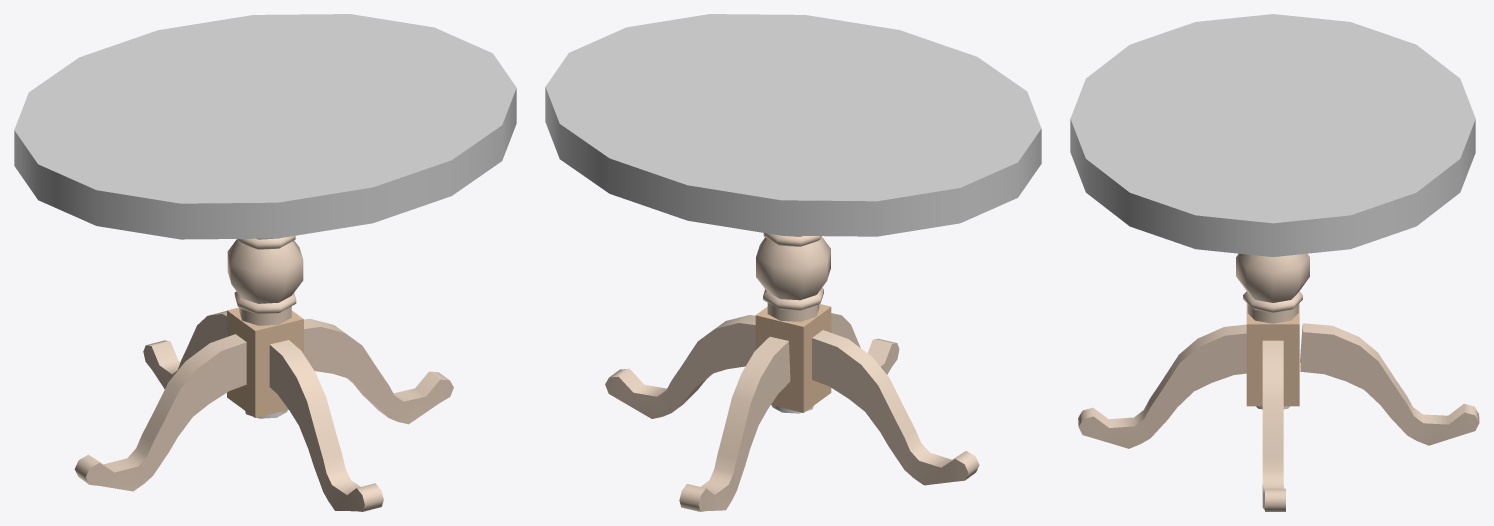
Rendered from Table(1)_A.fbx.
3 views of the same model, side by side, from view 1: azimuth 30°, elevation 25°; view 2: azimuth 150°, elevation 25°; view 3: azimuth 270°, elevation 25° (orthographic). The views are drawn at different scales.
Visible parts, largest first — view 1: polySurface8, polySurface4.001, polySurface4.002, polySurface4, polySurface2, polySurface1, polySurface4.003; view 2: polySurface8, polySurface4.001, polySurface4.003, polySurface4, polySurface2, polySurface1, polySurface4.002; view 3: polySurface8, polySurface4.003, polySurface4.002, polySurface2, polySurface4, polySurface1.
Boxes of the visible parts, left/top/right/bottom form: polySurface8: left=14, top=14, right=516, bottom=239; polySurface4.001: left=74, top=334, right=246, bottom=491; polySurface4.002: left=269, top=340, right=383, bottom=511; polySurface4: left=304, top=318, right=453, bottom=424; polySurface2: left=227, top=235, right=303, bottom=325; polySurface1: left=227, top=307, right=303, bottom=417; polySurface4.003: left=143, top=311, right=226, bottom=389; polySurface8: left=545, top=14, right=1041, bottom=236; polySurface4.001: left=812, top=330, right=979, bottom=485; polySurface4.003: left=679, top=336, right=790, bottom=511; polySurface4: left=605, top=315, right=755, bottom=418; polySurface2: left=756, top=233, right=830, bottom=321; polySurface1: left=755, top=304, right=831, bottom=412; polySurface4.002: left=831, top=313, right=899, bottom=374; polySurface8: left=1070, top=14, right=1475, bottom=256; polySurface4.003: left=1300, top=323, right=1479, bottom=445; polySurface4.002: left=1078, top=324, right=1246, bottom=448; polySurface2: left=1236, top=253, right=1309, bottom=323; polySurface4: left=1262, top=340, right=1285, bottom=511; polySurface1: left=1246, top=303, right=1299, bottom=406.
Size of the model in its own units: 90.81 by 65.83 by 74.99.
